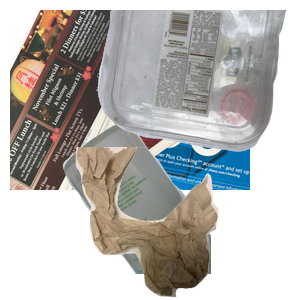glass: (60, 120, 300, 300)
paper: (10, 10, 250, 190)
plastic: (95, 10, 300, 154)
trash: (73, 147, 300, 300)
